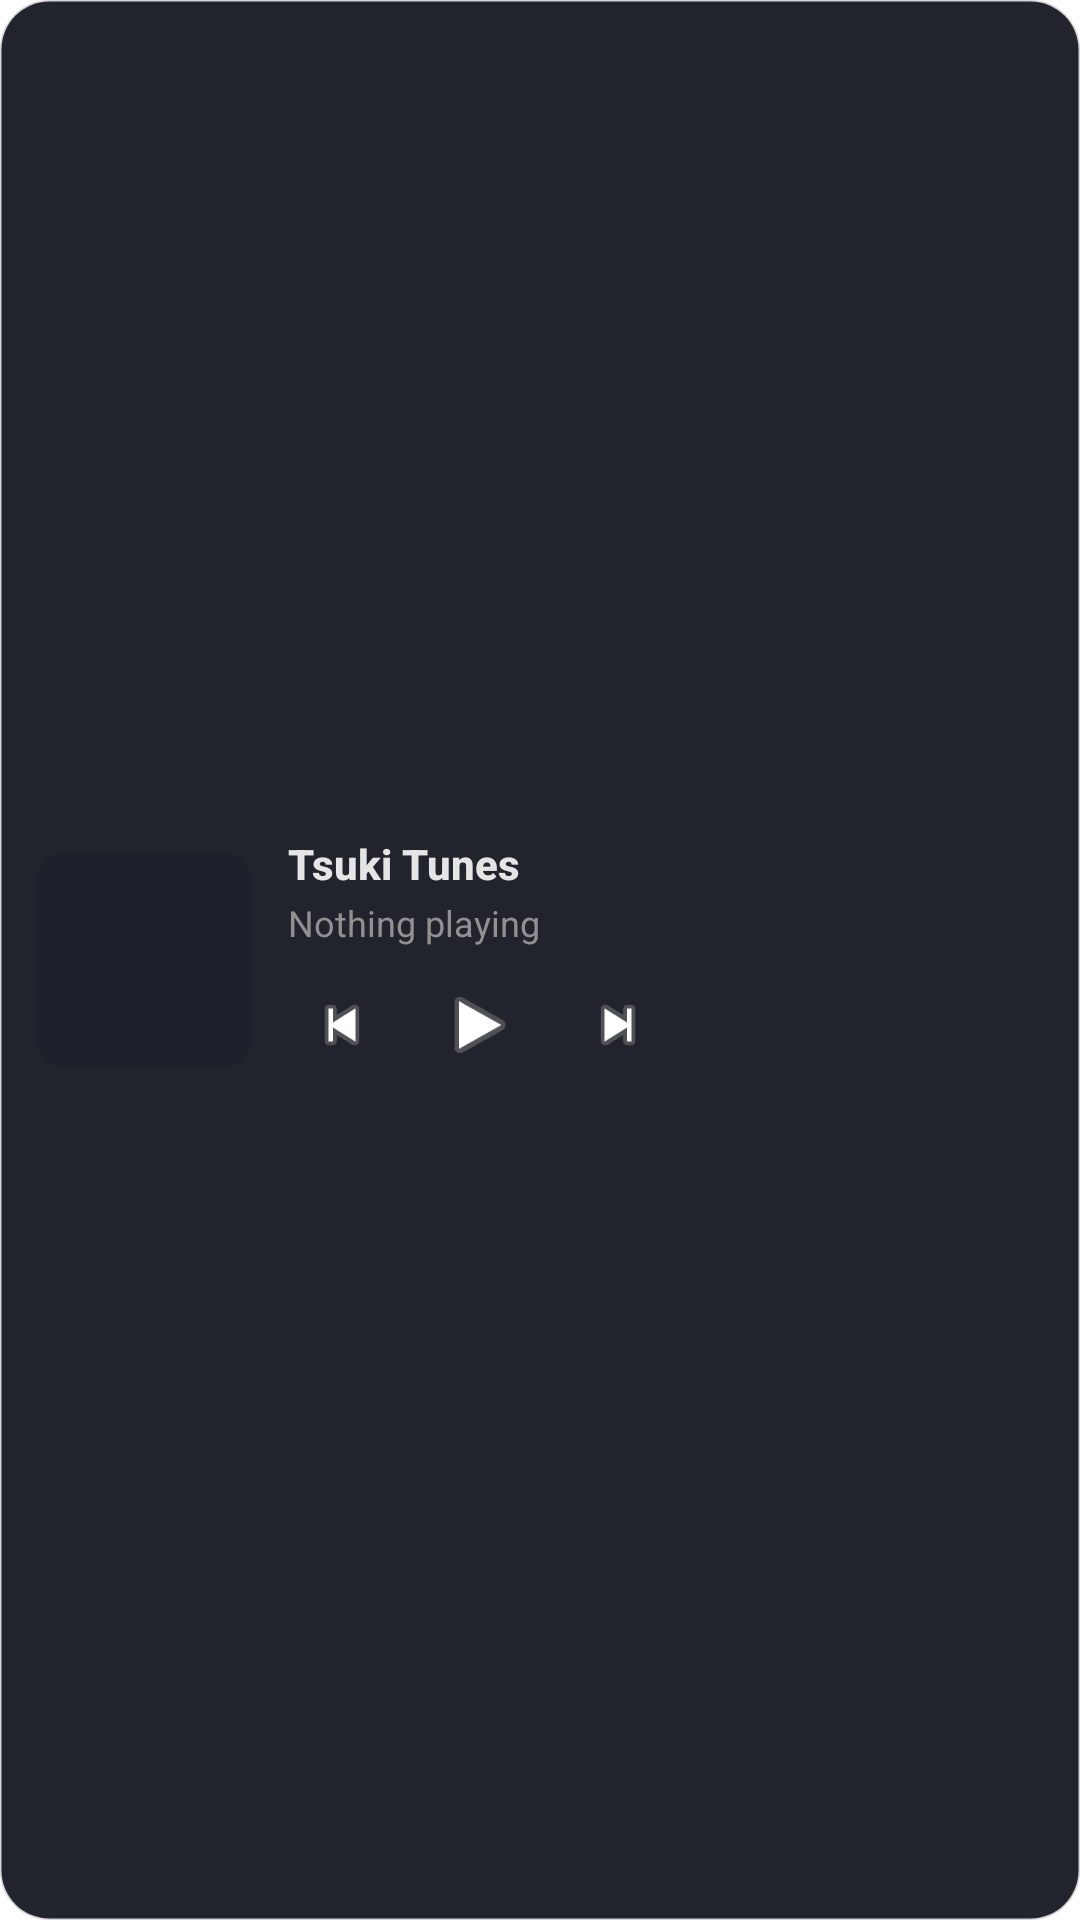

Named icons in this screenshot (1080px x 1920px) and their bounding boxes, (x1,y1,x2,y2):
Next: (601,1005,635,1045)
Play/Pause: (455,997,505,1053)
Previous: (325,1005,359,1045)
